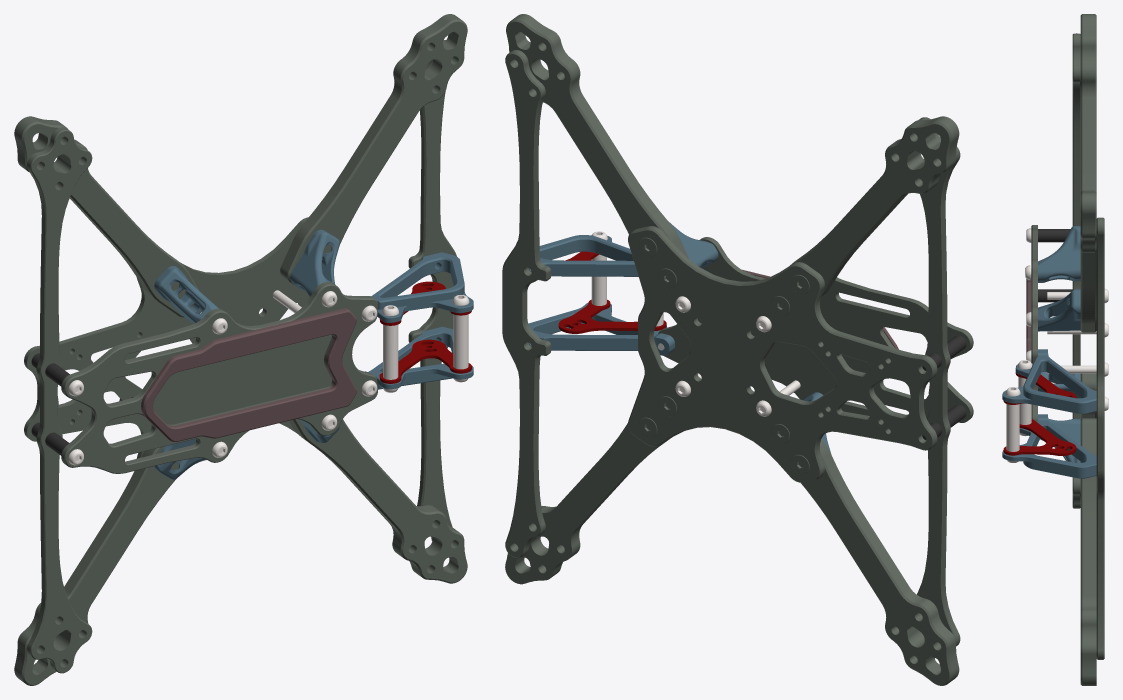
3 views of the same model, side by side, from view 1: azimuth 30°, elevation 25°; view 2: azimuth 150°, elevation 25°; view 3: azimuth 270°, elevation 25° (orthographic). The views are drawn at different scales.
Parts seen in each view (by area): view 1: Body17.001; view 2: Body17.001; view 3: Body17.001.
Boxes of the visible parts, x1,y1,x2,y2 form: Body17.001: (14,14,473,685); Body17.001: (502,14,973,685); Body17.001: (1002,14,1108,685).
Size of the model in its own units: 22.19 by 26.79 by 5.25.
